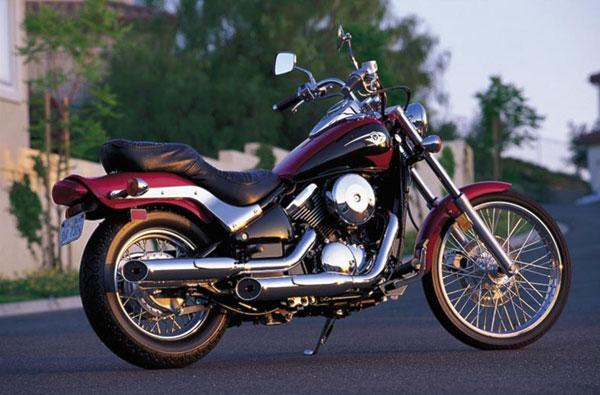motorcycle: (39, 20, 574, 373)
